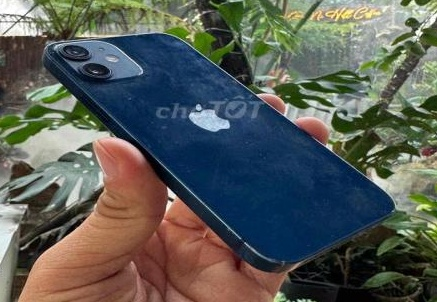scratch: (124, 35, 379, 226)
